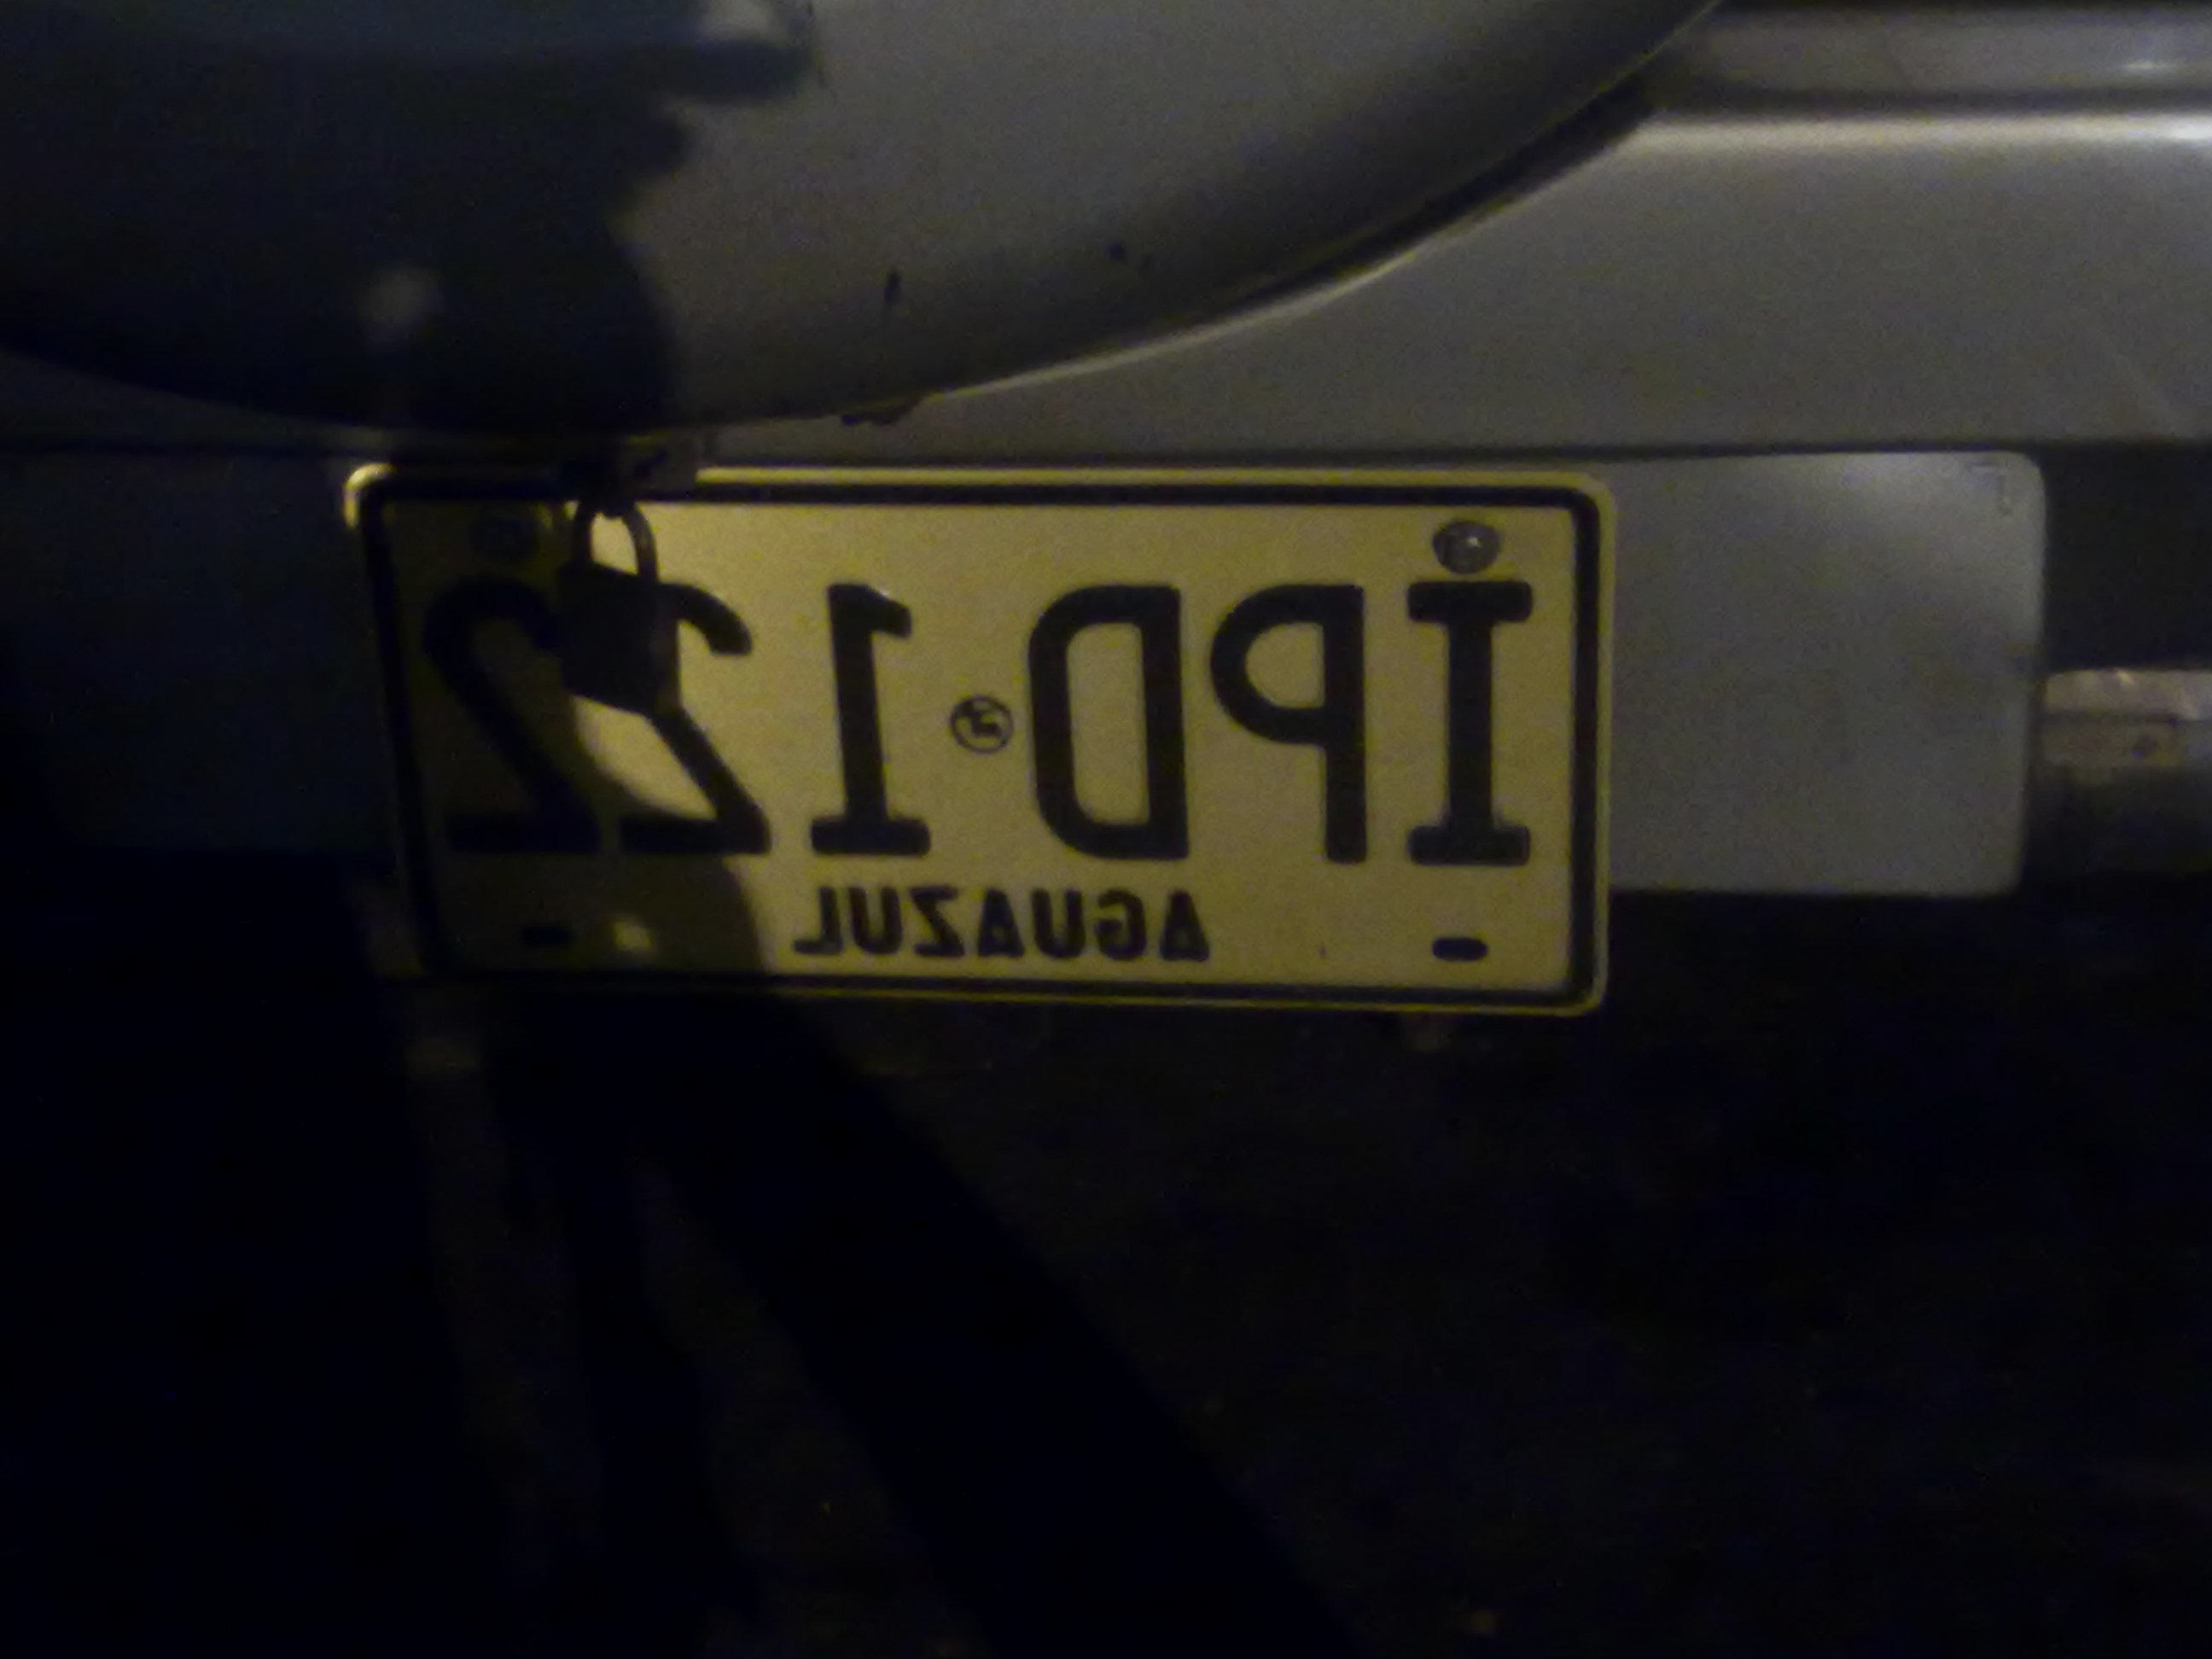placas: (334, 451, 1625, 1027)
